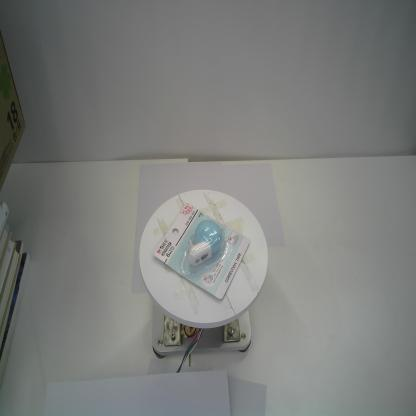Stationery: (153, 202, 250, 300)
